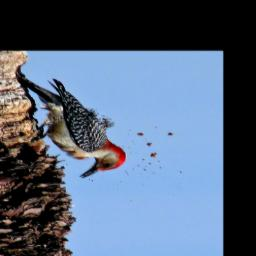Woodpecker: (14, 73, 128, 179)
